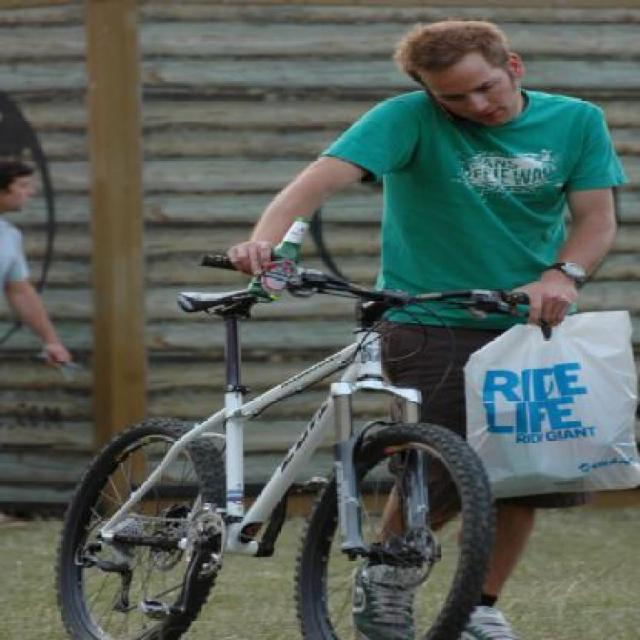plastic bag: (458, 309, 638, 500)
